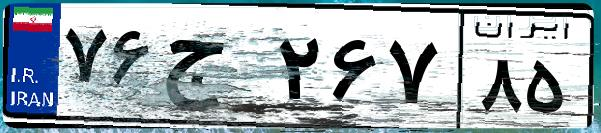2: (270, 28, 330, 110)
5: (525, 38, 570, 115)
6: (330, 28, 385, 110), (110, 28, 158, 98)
7: (385, 28, 445, 110), (57, 26, 110, 100)
8: (475, 38, 525, 113)
ج: (158, 20, 270, 120)
